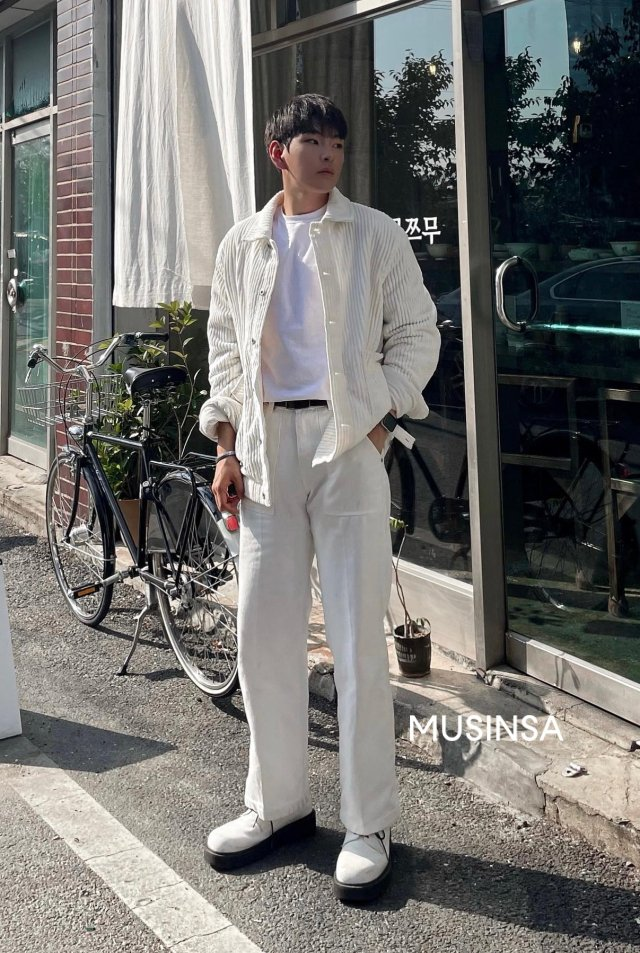Jacket: (199, 187, 441, 468)
Jeans: (236, 403, 403, 829)
Shoes: (200, 806, 404, 910)
